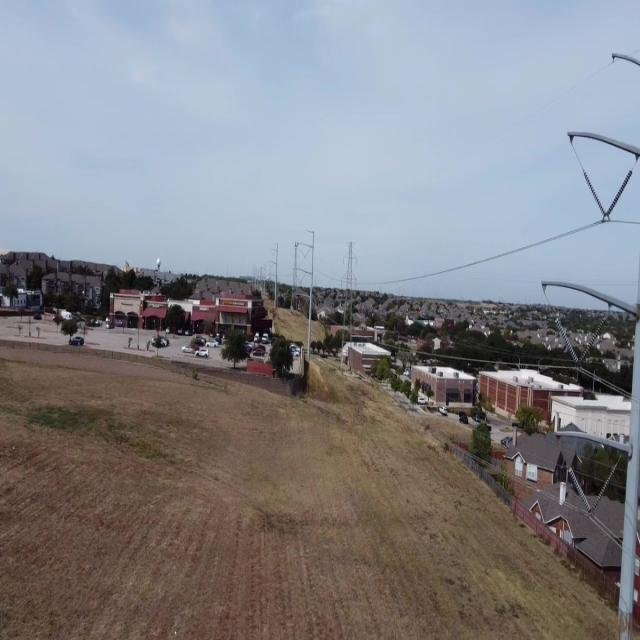杆塔: (337, 235, 362, 354), (288, 235, 302, 310)
正常绝缘子: (584, 462, 620, 522), (600, 168, 635, 224), (575, 316, 608, 370), (552, 315, 583, 369), (581, 168, 610, 223), (566, 464, 594, 520)
